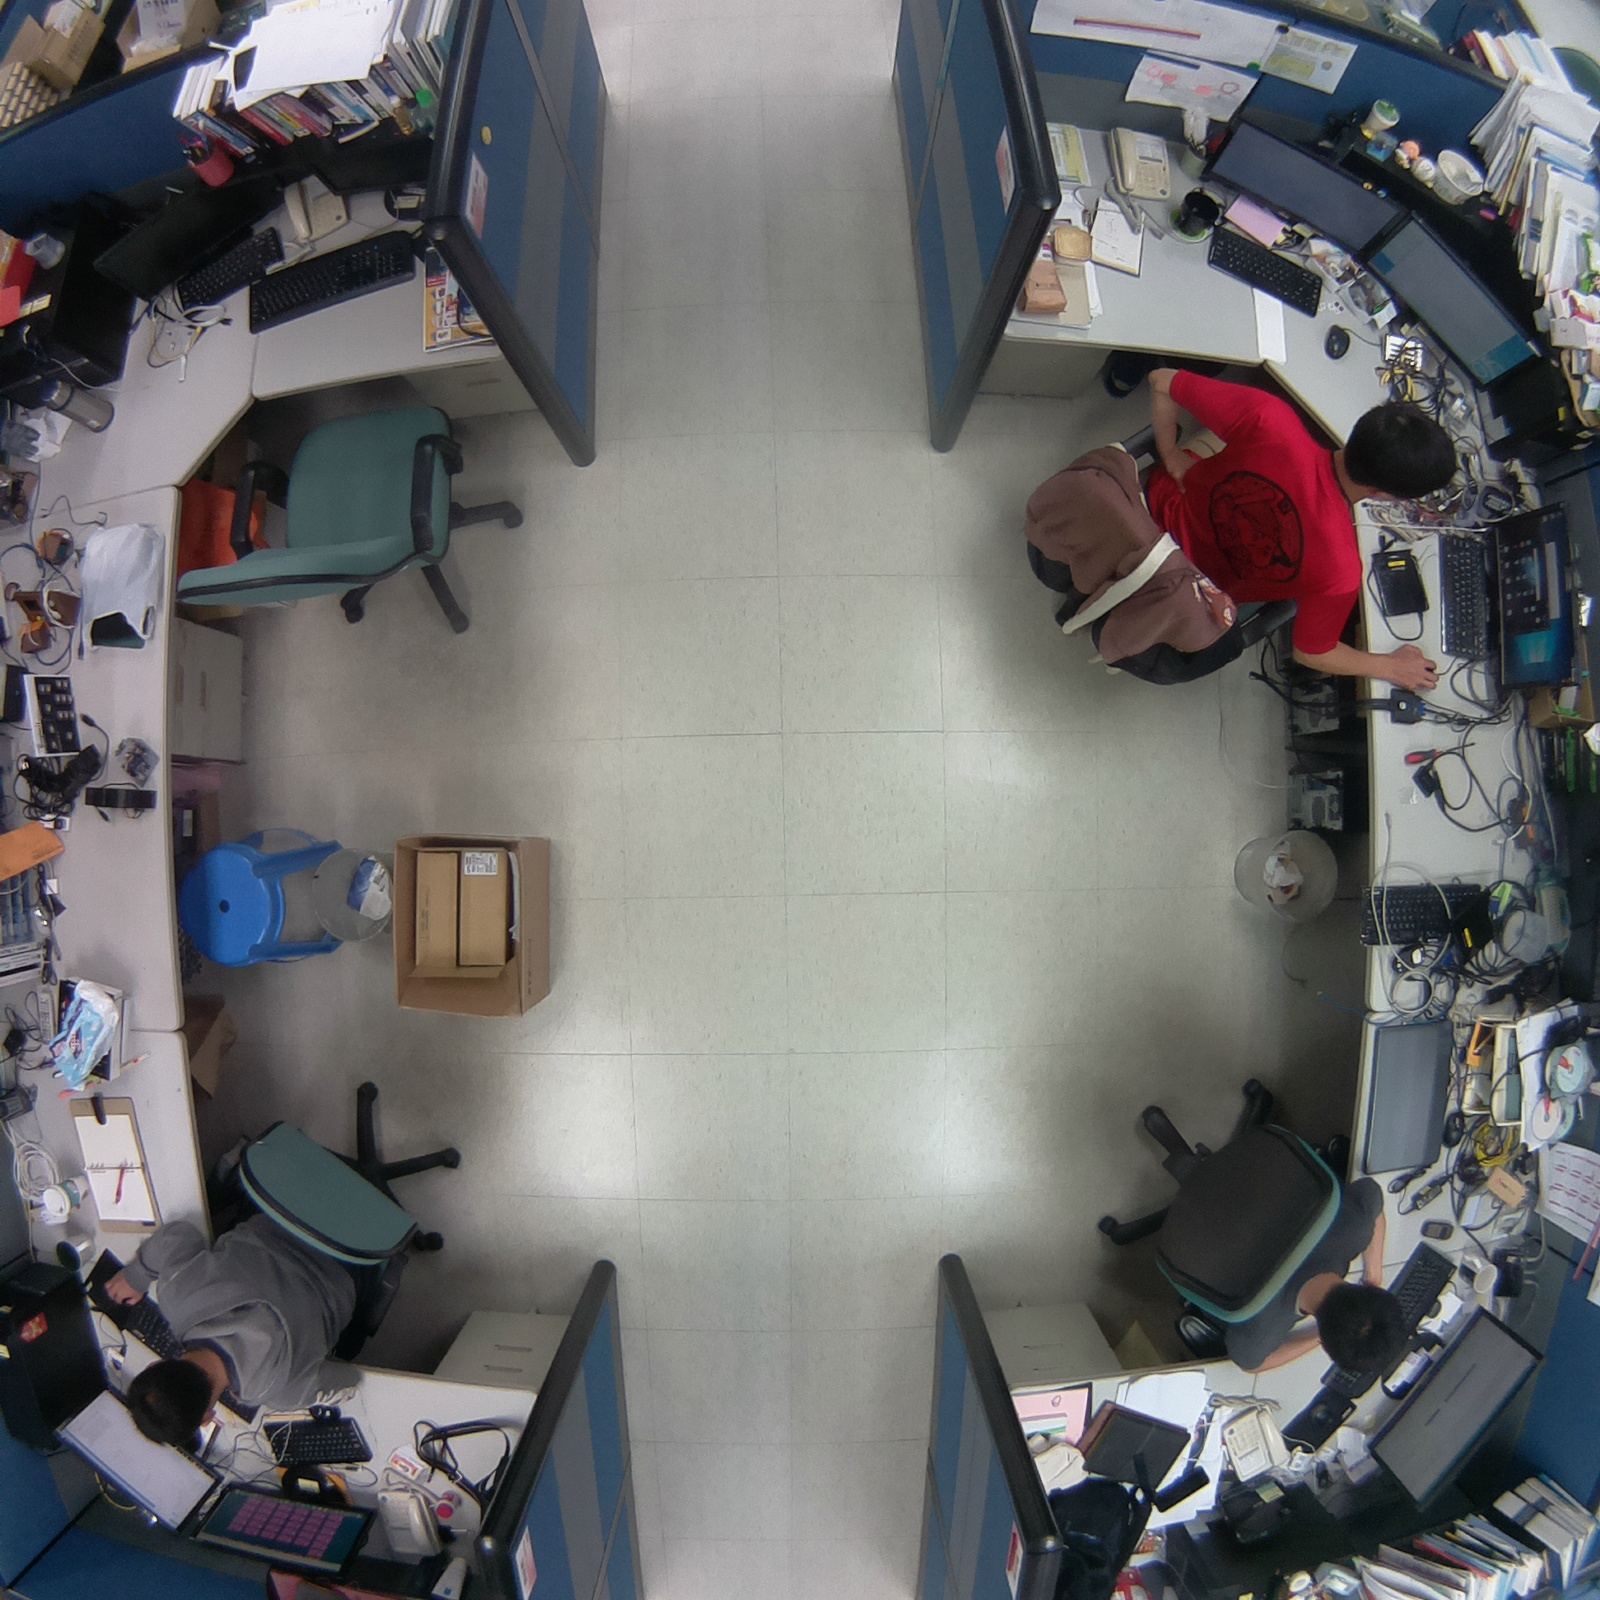chair: (155, 350, 547, 647)
head: (1335, 398, 1466, 508), (1307, 1269, 1419, 1386), (113, 1349, 225, 1455)
sitting: (994, 329, 1468, 709), (82, 1060, 483, 1451), (1081, 1042, 1424, 1392)
